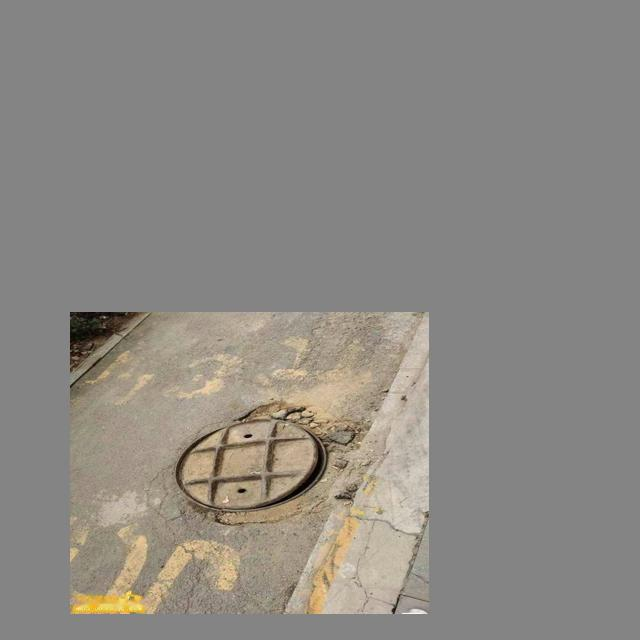circle: (160, 389, 389, 540)
